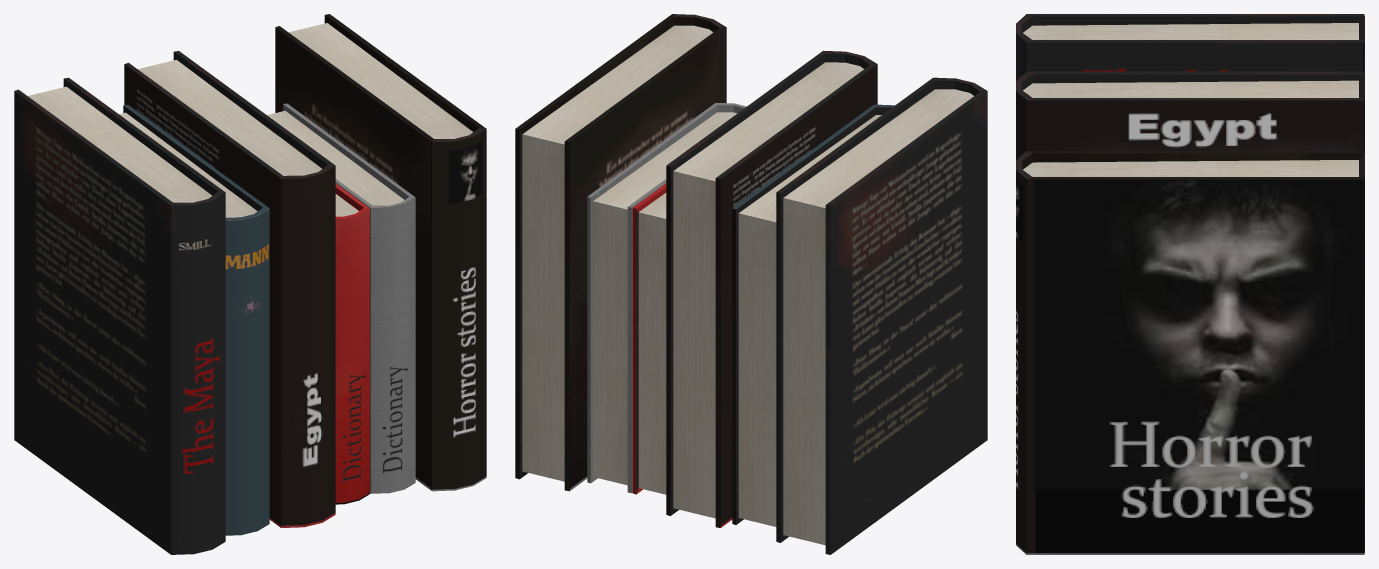
File: books 3.FBX
The picture shows the model from 3 angles, left to right: view 1: azimuth 30°, elevation 25°; view 2: azimuth 150°, elevation 25°; view 3: azimuth 270°, elevation 25°; orthographic projection. The views are drawn at different scales.
Parts seen in each view (by area): view 1: Books 3; view 2: Books 3; view 3: Books 3.
Part boxes in pixels (bbox=[...]): Books 3: bbox=[14, 14, 486, 554]; Books 3: bbox=[515, 14, 987, 554]; Books 3: bbox=[1016, 14, 1364, 554].
Size of the model in its own units: 9.34 by 9.91 by 8.32.
Materials: 1 (1 with a texture image).
